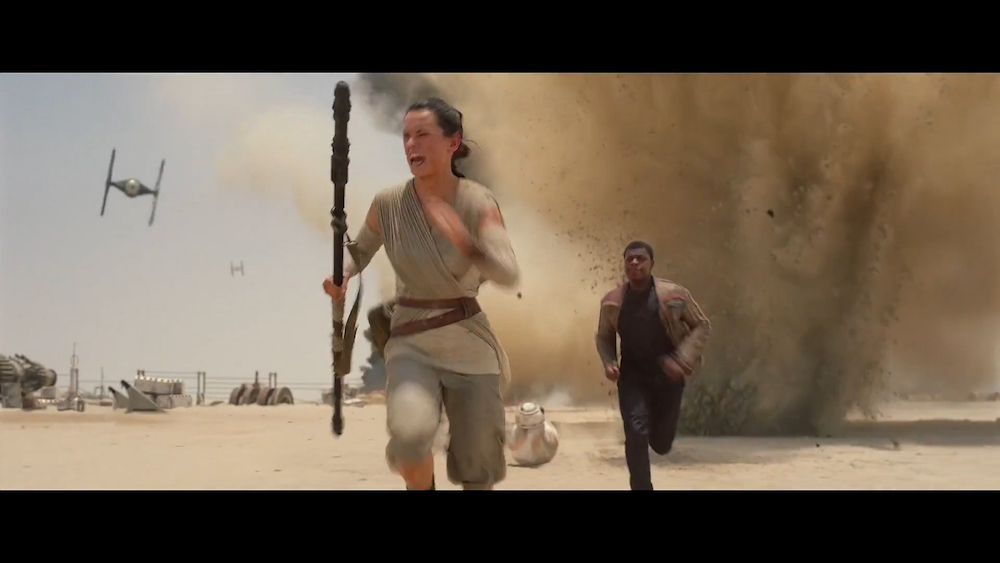Tie Fighter: (101, 147, 166, 228), (231, 261, 245, 278)
